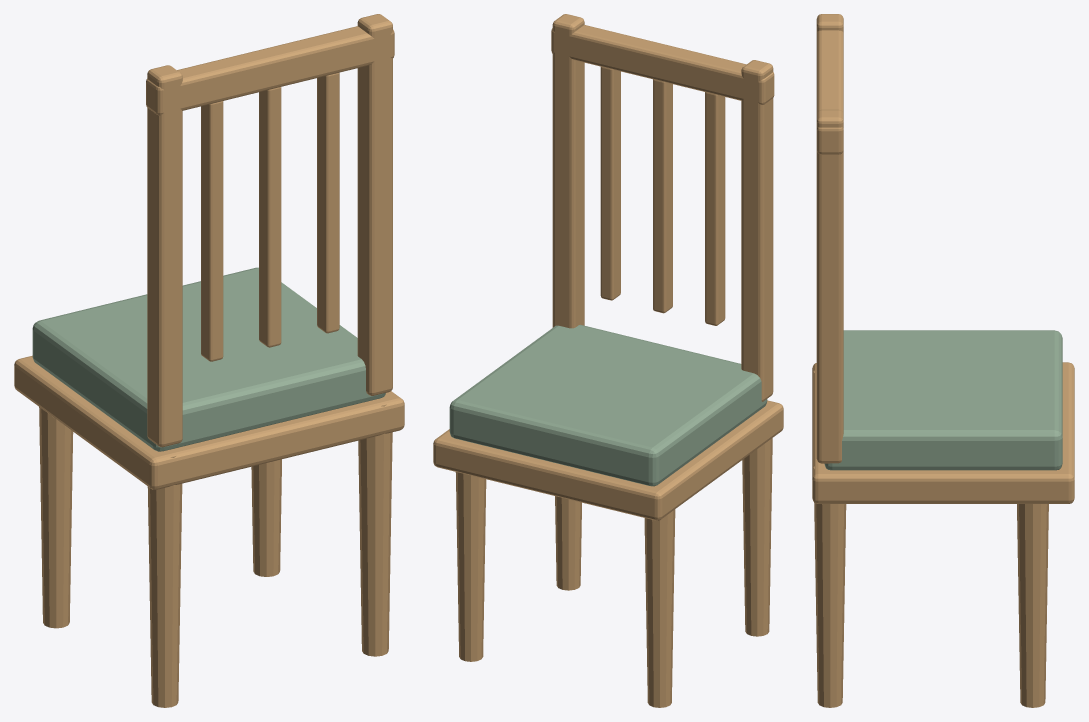
File: dining-chair-v1.glb
3 views of the same model, side by side, from view 1: azimuth 30°, elevation 25°; view 2: azimuth 150°, elevation 25°; view 3: azimuth 270°, elevation 25° (orthographic). The views are drawn at different scales.
Parts seen in each view (by area): view 1: seat-cushion, seat-rail, back-post.001, back-post, back-top-rail, tapered-leg, tapered-leg.002, tapered-leg.001, back-slat, back-slat.001, back-slat.002, tapered-leg.003; view 2: seat-cushion, seat-rail, back-post.001, back-post, back-top-rail, tapered-leg.001, tapered-leg, tapered-leg.003, back-slat, back-slat.001, back-slat.002, tapered-leg.002; view 3: seat-cushion, seat-rail, back-post, tapered-leg.002, tapered-leg.003, back-top-rail, back-post.001.
Part boxes in pixels (bbox=[...]): seat-cushion: bbox=[32, 267, 385, 451]; seat-rail: bbox=[14, 355, 404, 489]; back-post.001: bbox=[147, 65, 182, 447]; back-post: bbox=[357, 14, 392, 395]; back-top-rail: bbox=[146, 26, 394, 115]; tapered-leg: bbox=[147, 455, 182, 707]; tapered-leg.002: bbox=[358, 404, 392, 656]; tapered-leg.001: bbox=[39, 407, 73, 628]; back-slat: bbox=[317, 73, 339, 333]; back-slat.001: bbox=[201, 101, 223, 361]; back-slat.002: bbox=[259, 87, 281, 347]; tapered-leg.003: bbox=[251, 459, 281, 576]; seat-cushion: bbox=[449, 324, 767, 486]; seat-rail: bbox=[433, 400, 783, 520]; back-post.001: bbox=[741, 60, 773, 401]; back-post: bbox=[552, 14, 584, 328]; back-top-rail: bbox=[551, 25, 774, 104]; tapered-leg.001: bbox=[644, 509, 675, 707]; tapered-leg: bbox=[742, 438, 772, 636]; tapered-leg.003: bbox=[455, 472, 486, 661]; back-slat: bbox=[600, 66, 620, 300]; back-slat.001: bbox=[705, 92, 725, 325]; back-slat.002: bbox=[653, 79, 672, 313]; tapered-leg.002: bbox=[555, 496, 581, 590]; seat-cushion: bbox=[824, 330, 1062, 470]; seat-rail: bbox=[812, 362, 1074, 503]; back-post: bbox=[816, 109, 843, 463]; tapered-leg.002: bbox=[813, 466, 846, 707]; tapered-leg.003: bbox=[1017, 504, 1048, 707]; back-top-rail: bbox=[816, 30, 843, 154]; back-post.001: bbox=[816, 14, 843, 32].
Size of the model in its own units: 0.46 by 1.09 by 0.44.
